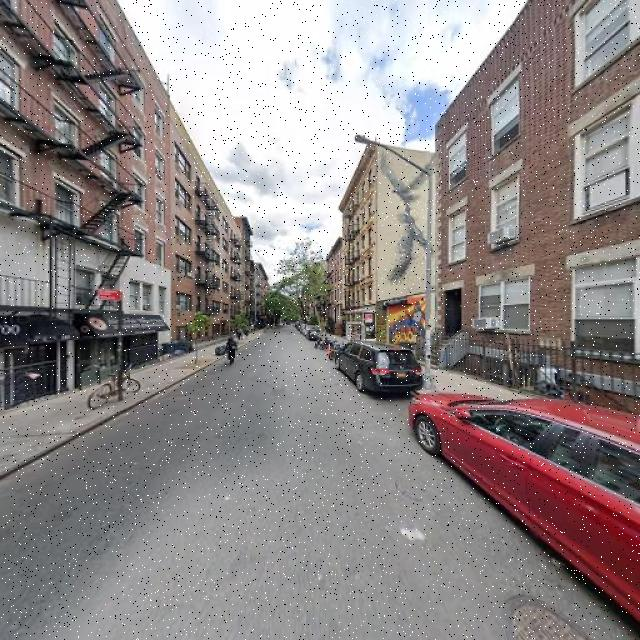Building: (435, 1, 640, 424), (1, 1, 169, 404), (173, 113, 229, 353), (343, 135, 379, 359)
